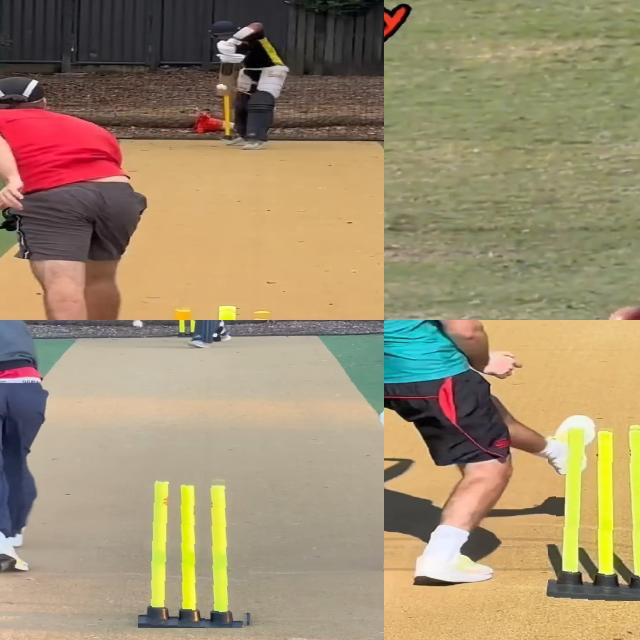Cricket ball: (604, 300, 640, 320), (214, 82, 229, 92), (131, 320, 146, 328)
Stumps: (138, 472, 254, 628), (548, 424, 640, 600), (176, 320, 199, 339)
